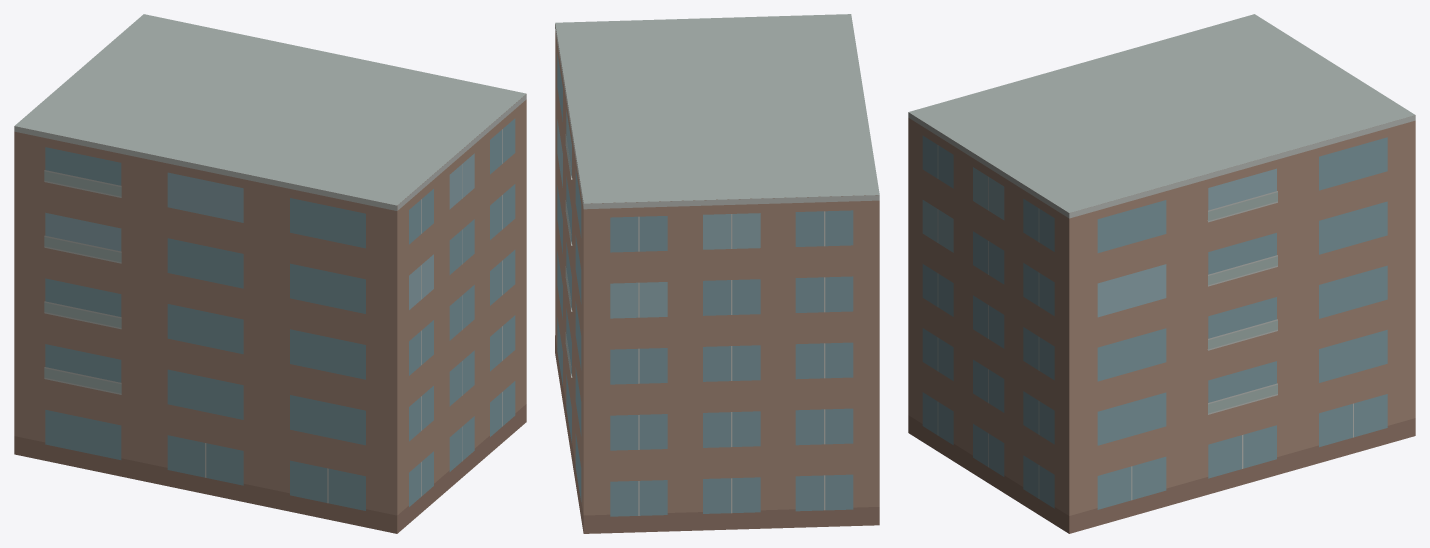
The model's file is survey-upis-32885814.glb.
3 views of the same model, side by side, from view 1: azimuth 30°, elevation 25°; view 2: azimuth 150°, elevation 25°; view 3: azimuth 270°, elevation 25° (orthographic). The views are drawn at different scales.
Visible parts, largest first — view 1: survey-upis-32885814.tmp; view 2: survey-upis-32885814.tmp; view 3: survey-upis-32885814.tmp.
Boxes of the visible parts, <box> form: survey-upis-32885814.tmp: <box>14,14,526,533</box>; survey-upis-32885814.tmp: <box>555,14,879,533</box>; survey-upis-32885814.tmp: <box>908,14,1415,533</box>.
Size of the model in its own units: 19.18 by 14.4 by 20.65.
